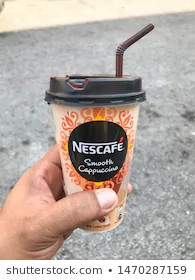nescafe-cappe: (45, 21, 166, 232)
